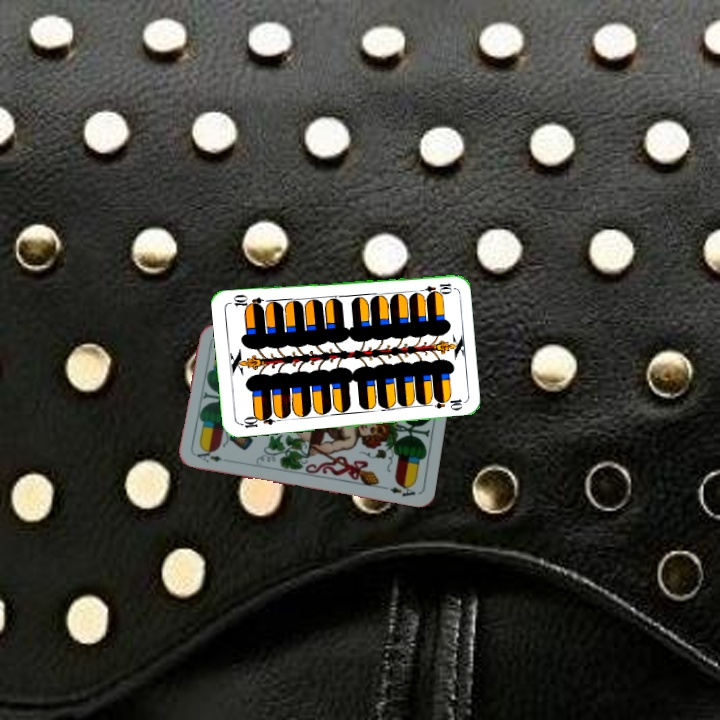E10: (236, 410, 277, 431), (414, 279, 454, 296)
EA: (192, 449, 225, 465)
